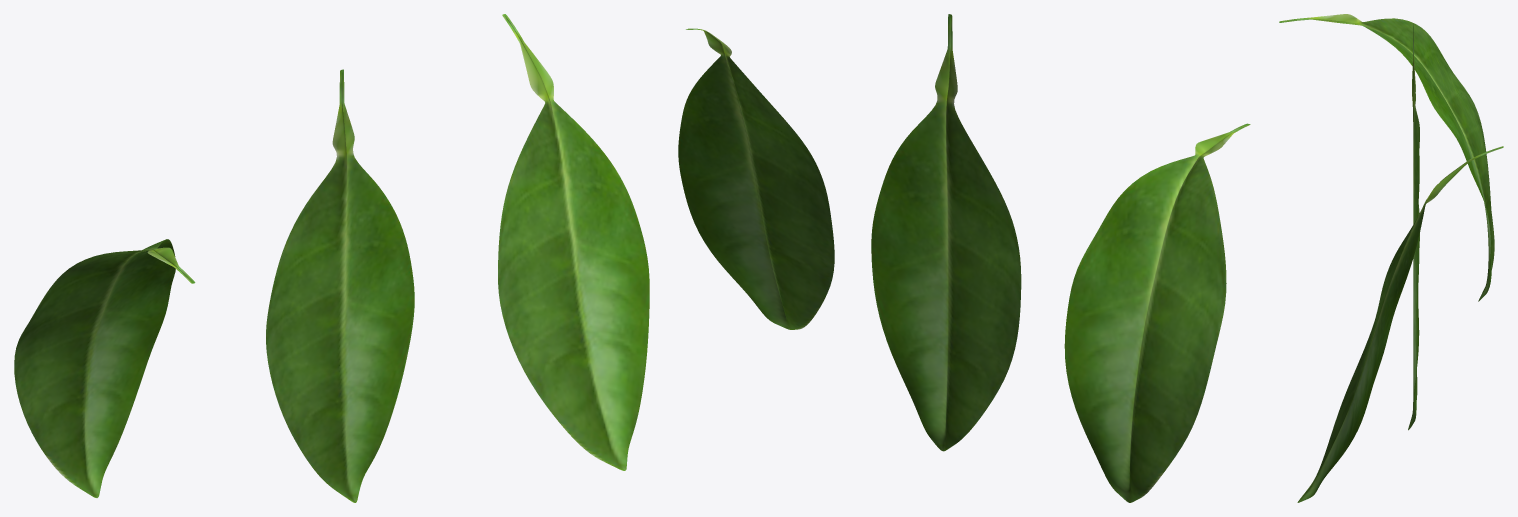
File: lemon_leaf.glb
The picture shows the model from 3 angles, left to right: view 1: azimuth 30°, elevation 25°; view 2: azimuth 150°, elevation 25°; view 3: azimuth 270°, elevation 25°; orthographic projection. The views are drawn at different scales.
Parts seen in each view (by area): view 1: Object_4, Object_3; view 2: Object_4, Object_3; view 3: Object_4, Object_3.
Part boxes in pixels (x1,y1,x2,y2): Object_4: (14, 14, 649, 497); Object_3: (266, 69, 414, 502); Object_4: (678, 28, 1250, 502); Object_3: (871, 14, 1021, 451); Object_4: (1279, 14, 1503, 502); Object_3: (1408, 24, 1420, 430).
Bounding box in the file's own units: 0.156 × 0.1117 × 0.0564.
Materials: 2 (2 with a texture image).
